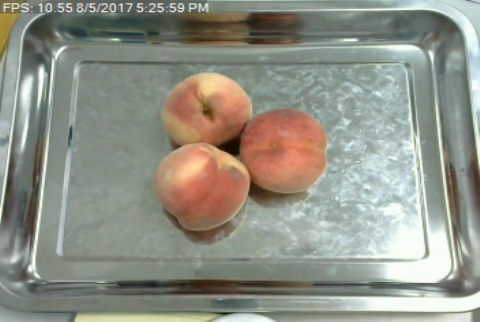Peach: (156, 142, 249, 232), (240, 107, 328, 193), (161, 70, 252, 150)
